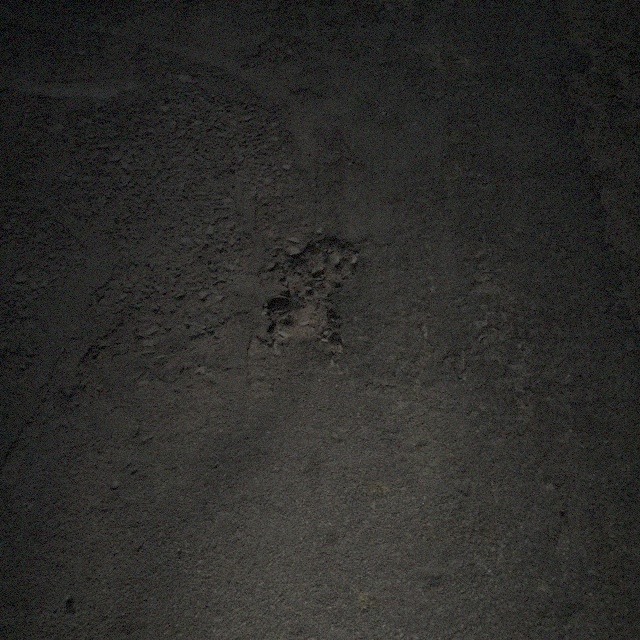pothole: (257, 231, 355, 346)
